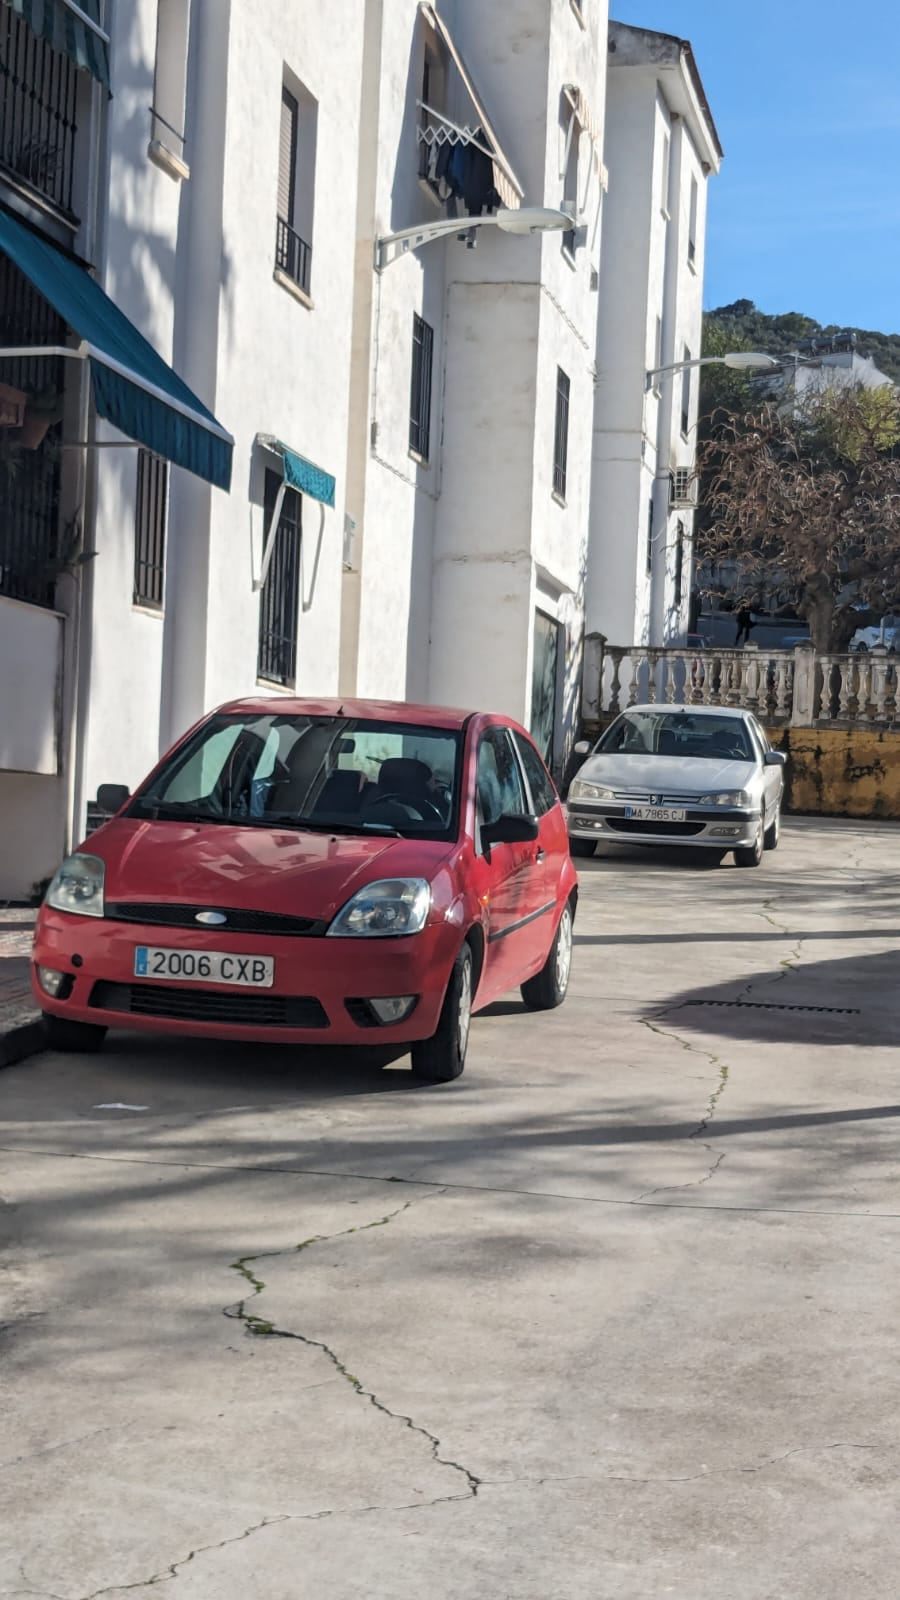car: (19, 685, 623, 1071), (560, 673, 792, 885), (848, 598, 899, 662)
